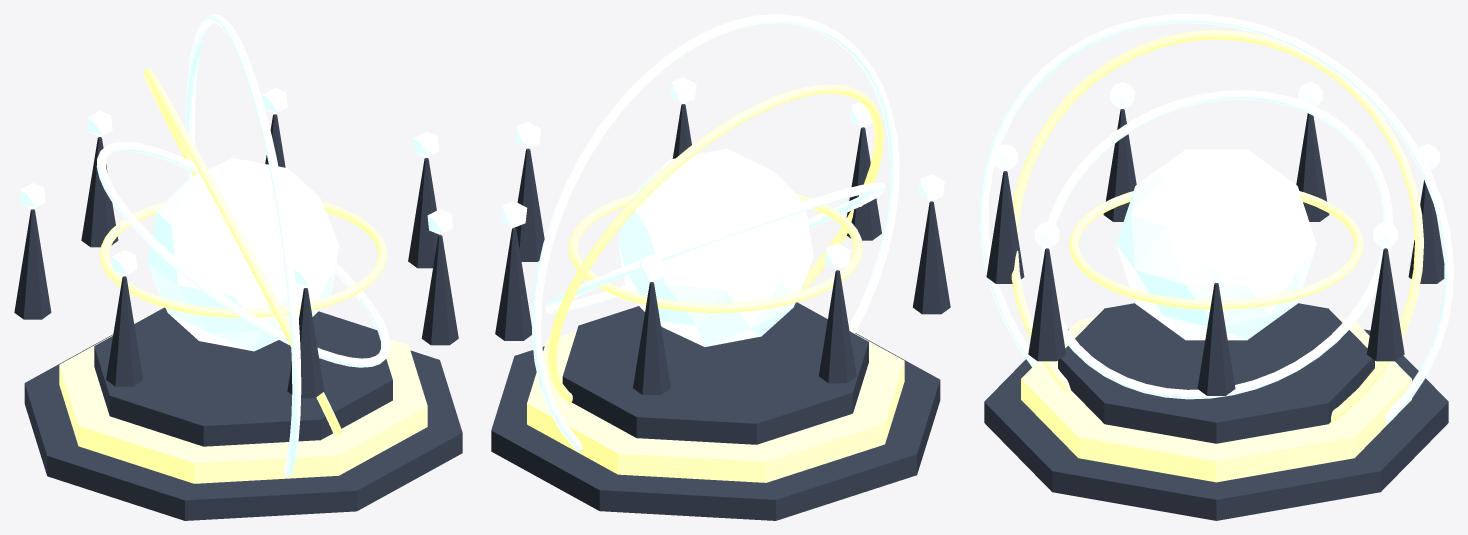
File: gpu-blender-v30.glb
3 views of the same model, side by side, from view 1: azimuth 30°, elevation 25°; view 2: azimuth 150°, elevation 25°; view 3: azimuth 270°, elevation 25° (orthographic). The views are drawn at different scales.
Parts seen in each view (by area): view 1: Cylinder.002, SovereignCore_zothos-lite, Cylinder, Cylinder.001, Torus.003, Torus.001, Torus, Torus.002, Cone.003, Cone.006, Cone.004, Cone (+8 smaller); view 2: Cylinder.002, SovereignCore_zothos-lite, Cylinder, Cylinder.001, Torus.003, Torus.002, Torus.001, Torus, Cone.003, Cone.004, Cone.002, Cone.001 (+9 smaller); view 3: SovereignCore_zothos-lite, Cylinder.002, Cylinder, Cylinder.001, Torus.003, Torus.002, Torus.001, Torus, Cone.001, Cone.006, Cone, Cone.005 (+5 smaller).
Part boxes in pixels (bbox=[...]): Cylinder.002: bbox=[94, 307, 392, 446]; SovereignCore_zothos-lite: bbox=[148, 158, 339, 351]; Cylinder: bbox=[24, 334, 462, 520]; Cylinder.001: bbox=[59, 315, 427, 483]; Torus.003: bbox=[186, 14, 301, 476]; Torus.001: bbox=[96, 141, 390, 367]; Torus: bbox=[100, 201, 387, 317]; Torus.002: bbox=[143, 68, 342, 435]; Cone.003: bbox=[14, 209, 51, 319]; Cone.006: bbox=[421, 235, 458, 345]; Cone.004: bbox=[106, 276, 142, 386]; Cone: bbox=[408, 158, 440, 268]; Cylinder.002: bbox=[562, 302, 868, 444]; SovereignCore_zothos-lite: bbox=[617, 149, 813, 346]; Cylinder: bbox=[491, 333, 940, 520]; Cylinder.001: bbox=[527, 310, 904, 482]; Torus.003: bbox=[532, 14, 899, 452]; Torus.002: bbox=[547, 84, 883, 403]; Torus.001: bbox=[545, 182, 885, 313]; Torus: bbox=[568, 193, 862, 312]; Cone.003: bbox=[819, 270, 856, 383]; Cone.004: bbox=[912, 201, 950, 314]; Cone.002: bbox=[633, 282, 670, 394]; Cone.001: bbox=[495, 228, 531, 340]; SovereignCore_zothos-lite: bbox=[1116, 149, 1316, 340]; Cylinder.002: bbox=[1058, 303, 1374, 443]; Cylinder: bbox=[984, 329, 1448, 520]; Cylinder.001: bbox=[1021, 317, 1411, 482]; Torus.003: bbox=[979, 14, 1453, 424]; Torus.002: bbox=[1011, 30, 1423, 422]; Torus.001: bbox=[1040, 90, 1392, 399]; Torus: bbox=[1069, 191, 1363, 309]; Cone.001: bbox=[1366, 248, 1404, 361]; Cone.006: bbox=[1028, 248, 1066, 361]; Cone: bbox=[1197, 283, 1235, 395]; Cone.005: bbox=[986, 171, 1024, 283].
Bounding box in the file's own units: 4.41 × 4.7 × 4.49.
